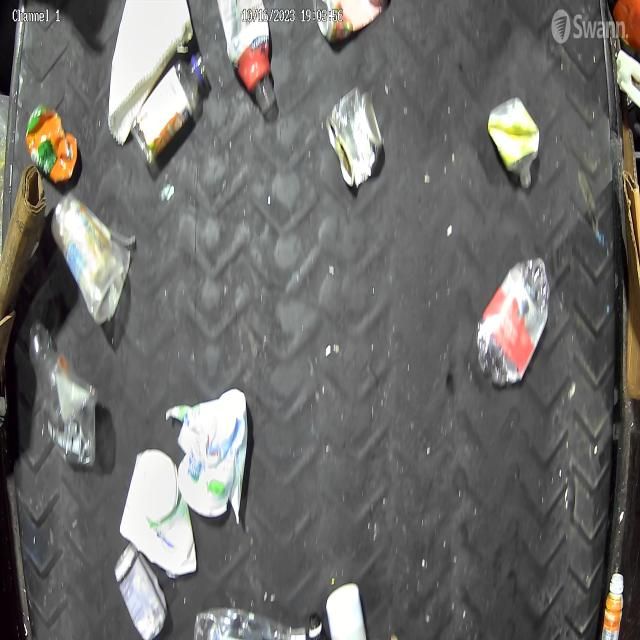can: (326, 86, 384, 190), (114, 542, 167, 640), (25, 106, 79, 184), (310, 0, 390, 48)
milk_jug: (118, 447, 199, 577)
plastic_bottle: (28, 321, 98, 467), (477, 255, 549, 386), (130, 53, 207, 166)
